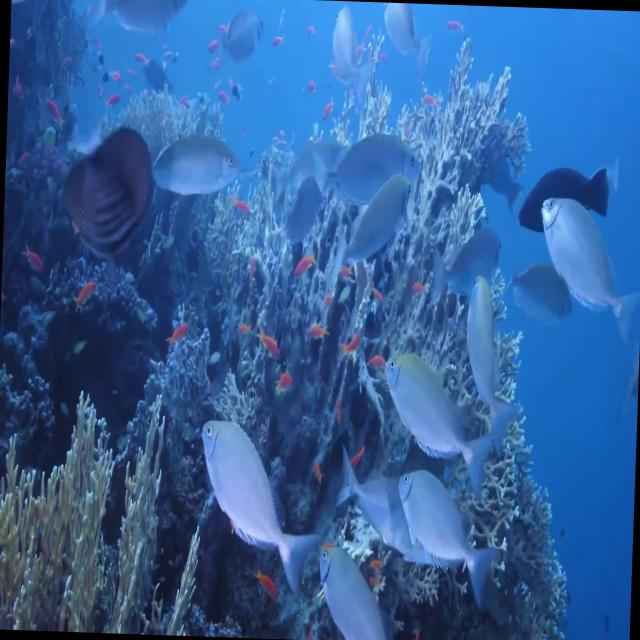fish: (188, 415, 330, 597), (531, 178, 640, 361), (368, 348, 509, 478), (397, 454, 502, 600), (308, 114, 420, 220), (331, 164, 417, 295), (324, 438, 426, 540), (462, 281, 526, 441), (310, 524, 395, 640), (515, 152, 614, 246), (144, 120, 240, 202), (495, 252, 580, 334), (268, 152, 332, 252), (324, 3, 376, 108), (90, 0, 197, 50), (206, 4, 276, 76), (377, 2, 441, 75)
